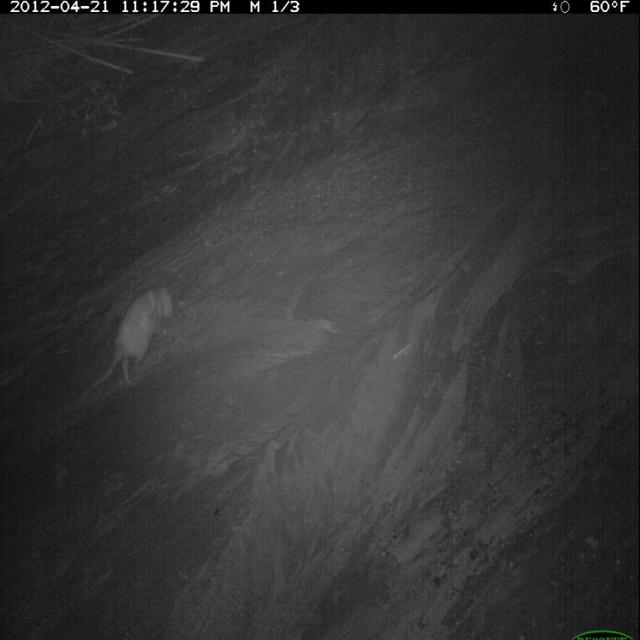opossum: (87, 279, 178, 399)
